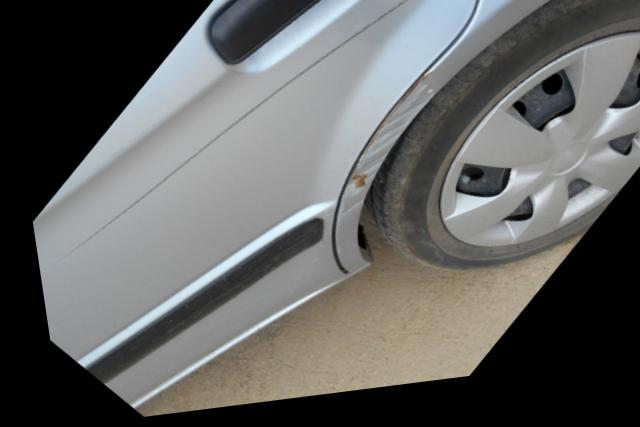scratch: (53, 0, 425, 259), (331, 82, 429, 214)
